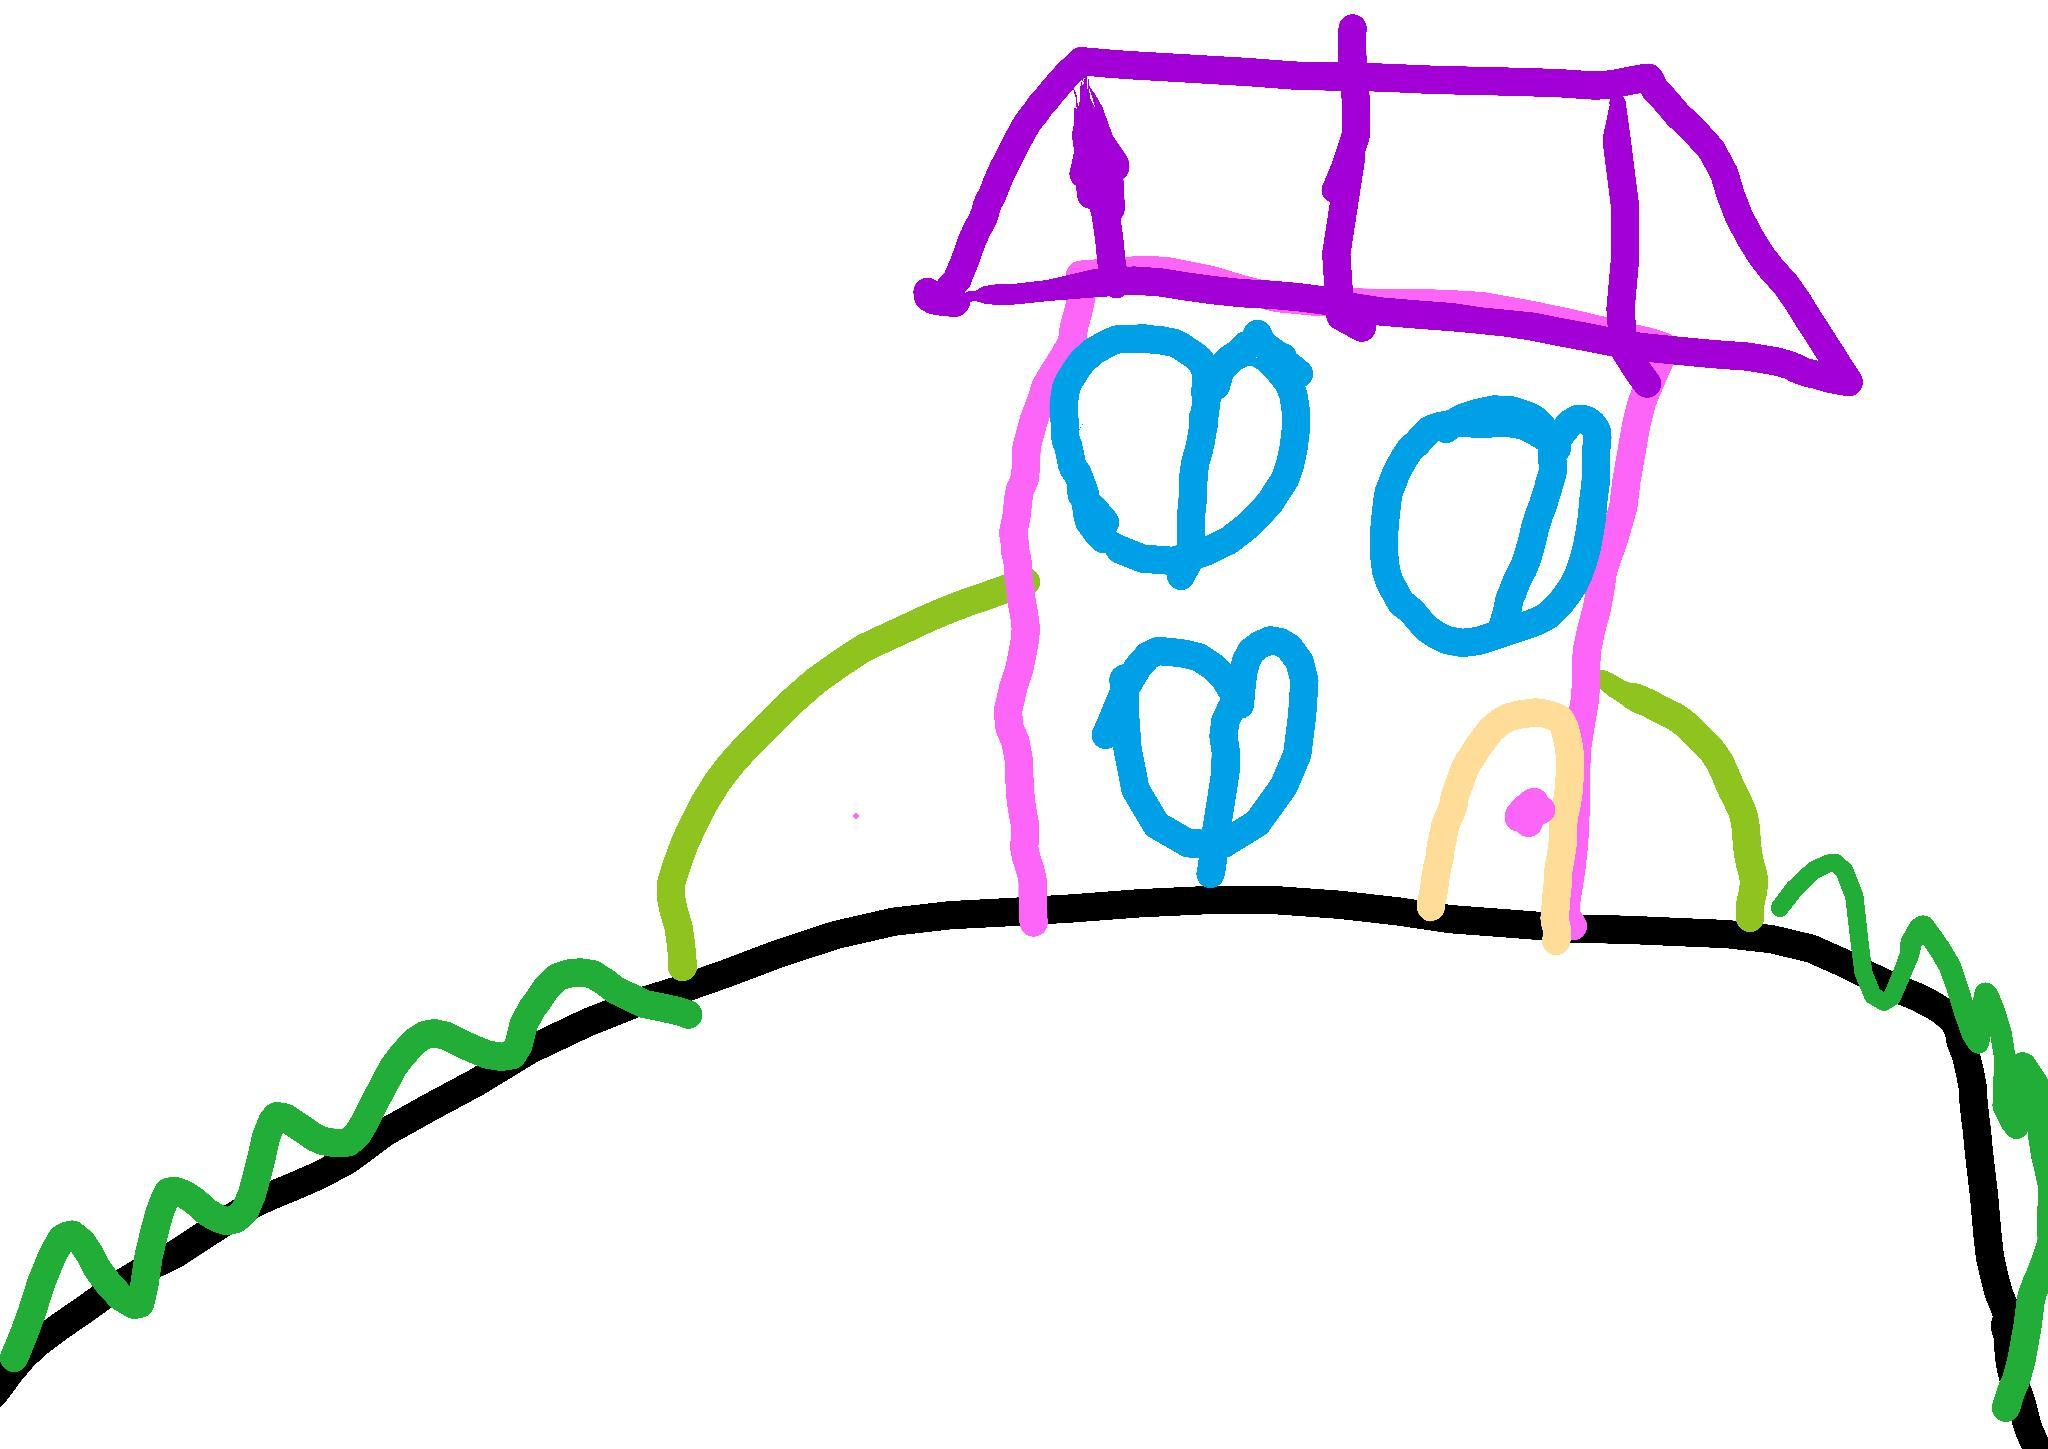door: (1421, 696, 1585, 955)
house: (913, 13, 1866, 953)
roof: (914, 31, 1866, 394)
wall: (1004, 296, 1651, 953)
window: (1051, 318, 1314, 590), (1371, 394, 1614, 655), (1093, 626, 1320, 886)
